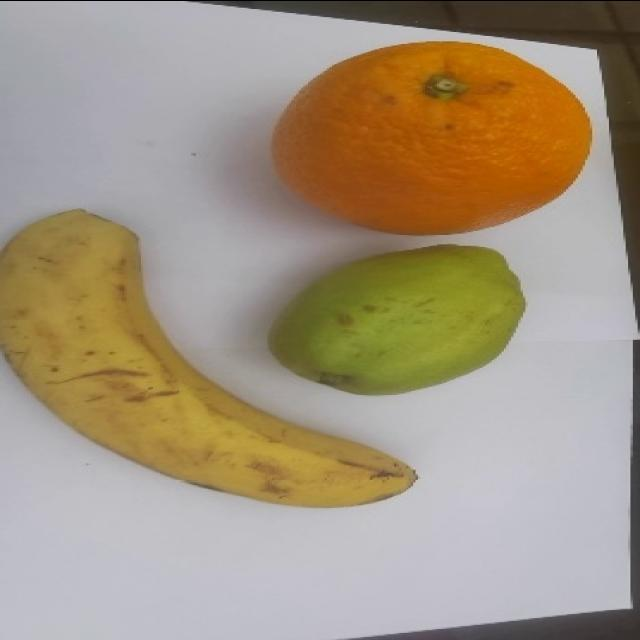Banana: (0, 207, 418, 508)
Orange: (269, 39, 592, 235)
